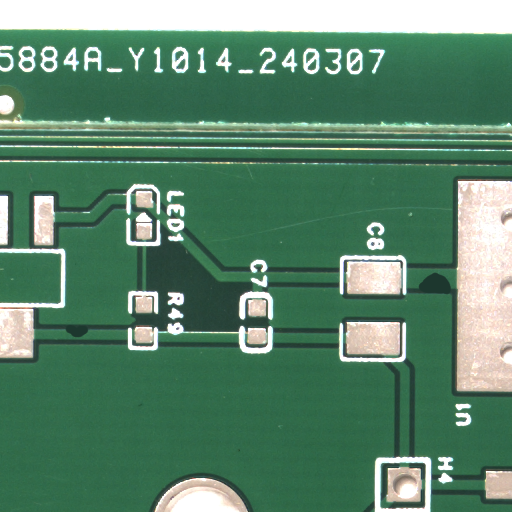Mouse_bite: (433, 280, 468, 301), (77, 329, 106, 347)
